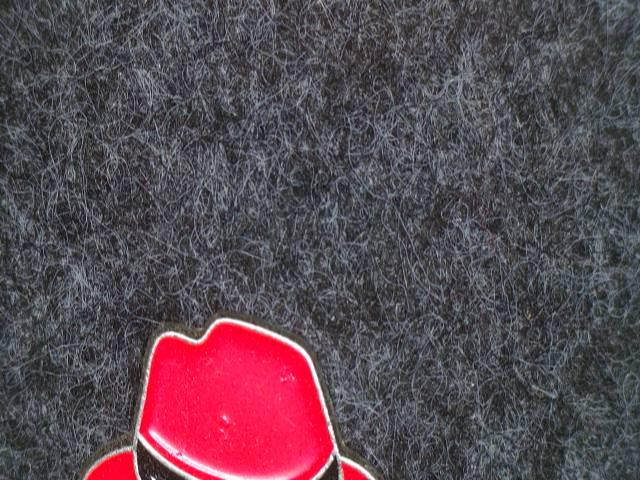Red-Hat: (35, 290, 437, 480)
